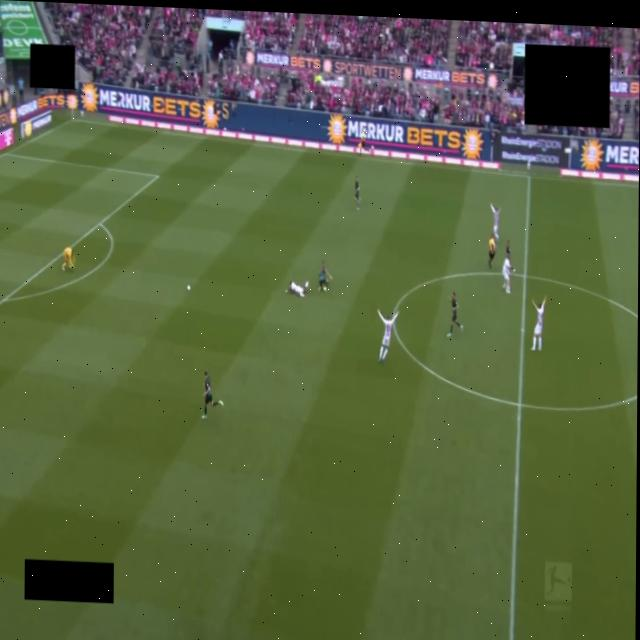ball: (187, 285, 190, 291)
player: (378, 310, 398, 362), (202, 370, 223, 418), (532, 296, 546, 351), (448, 292, 463, 337), (319, 262, 332, 292), (286, 281, 308, 297), (491, 204, 500, 241), (502, 258, 511, 294), (62, 247, 74, 270), (506, 240, 514, 272), (355, 177, 360, 209)
referee: (488, 235, 495, 269)
